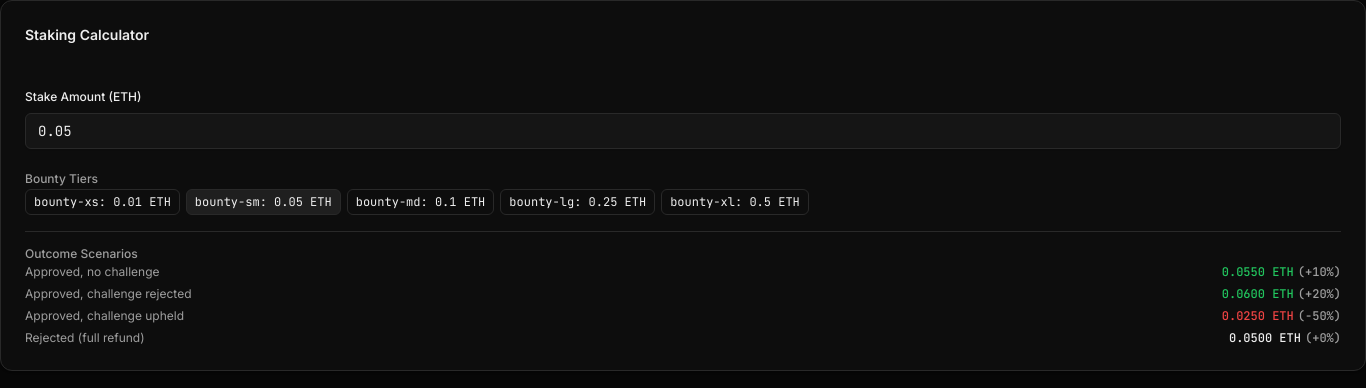
StakingCalculator › sets stake amount when a bounty tier button is clicked
This screenshot has width=1366, height=388.
Step 1. Click the button "bounty-lg: 0.25 ETH" → [578, 202], box [500,189,655,215]
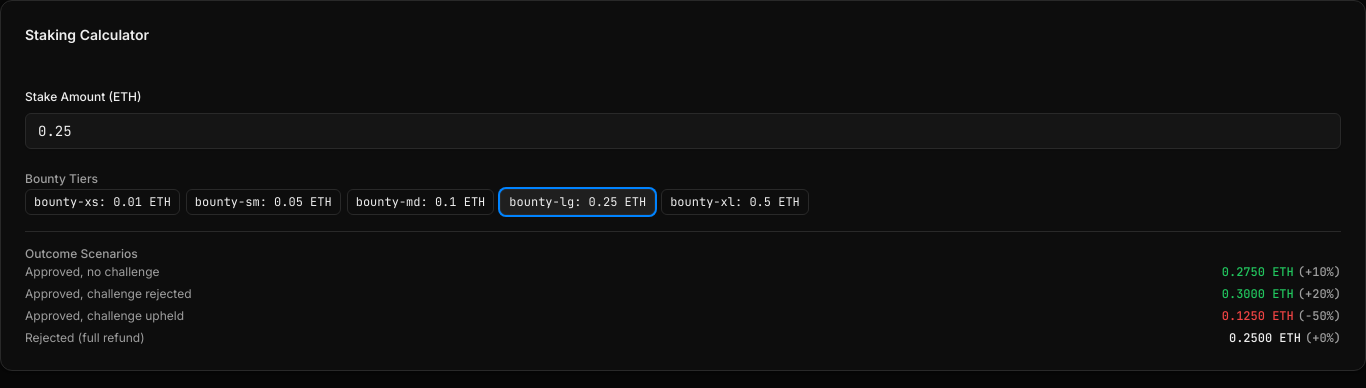
Expected: the number field labelled "Stake Amount (ETH)" holds "0.25", [25,113,1341,149]
Expected: the text "0.2750 ETH(+10%)" is shown, [1222,264,1341,280]
